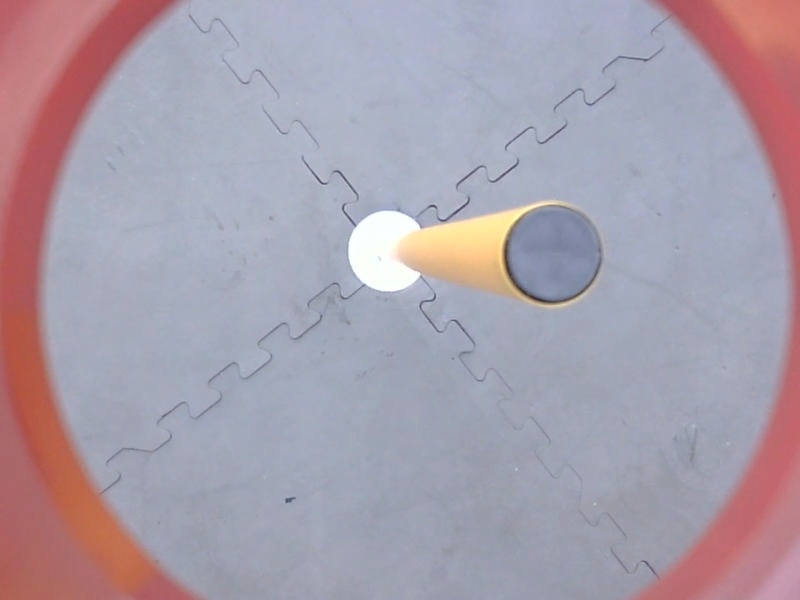tip: (495, 195, 609, 314)
